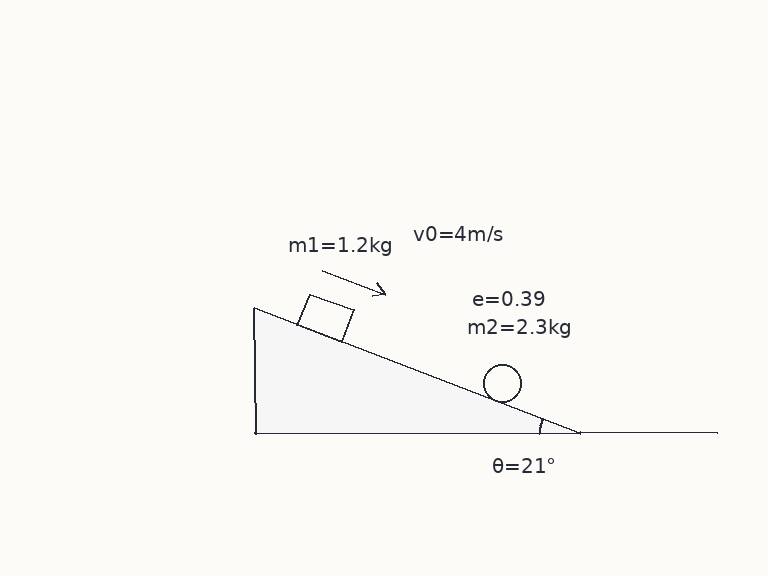ball: (481, 362, 523, 404)
block: (295, 291, 355, 343)
ramp: (252, 306, 582, 435)
